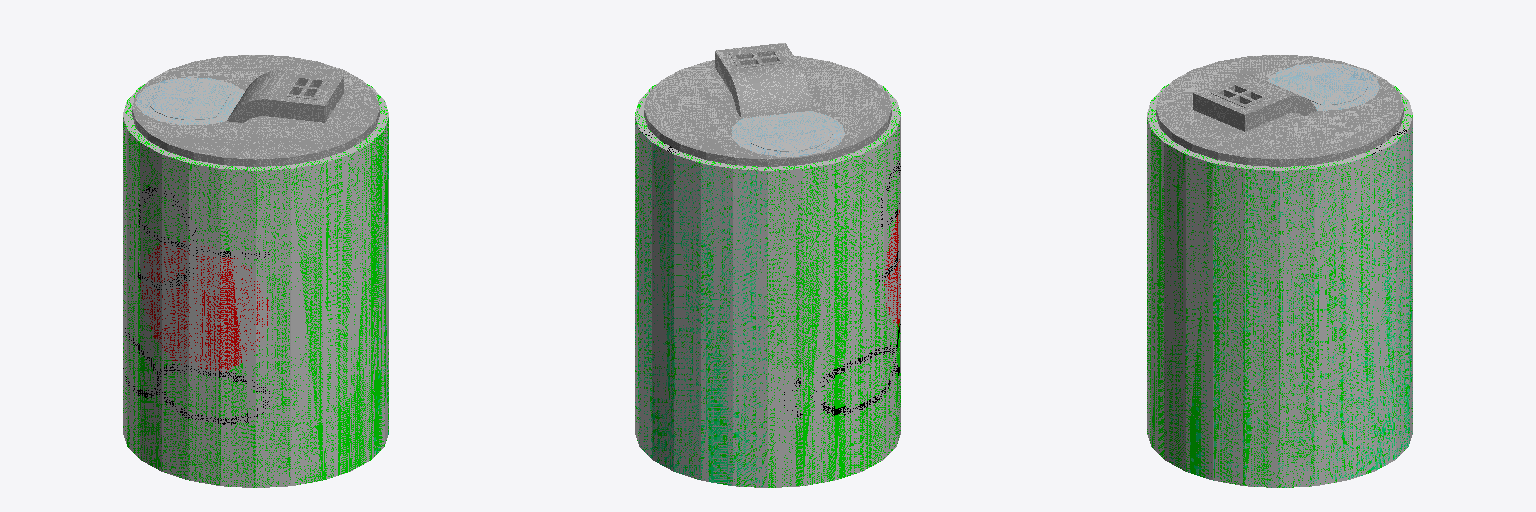
3 views of the same model, side by side, from view 1: azimuth 30°, elevation 25°; view 2: azimuth 150°, elevation 25°; view 3: azimuth 270°, elevation 25° (orthographic).
Parts seen in each view (by area): view 1: mesh1.001_mesh1-geometry; view 2: mesh1.001_mesh1-geometry; view 3: mesh1.001_mesh1-geometry.
Part boxes in pixels (x1,y1,x2,y2): mesh1.001_mesh1-geometry: (123,55,388,487); mesh1.001_mesh1-geometry: (635,43,900,487); mesh1.001_mesh1-geometry: (1147,55,1412,487).
Size of the model in its own units: 0.4928 by 0.7172 by 0.4928.
Materials: 4 (2 with a texture image).